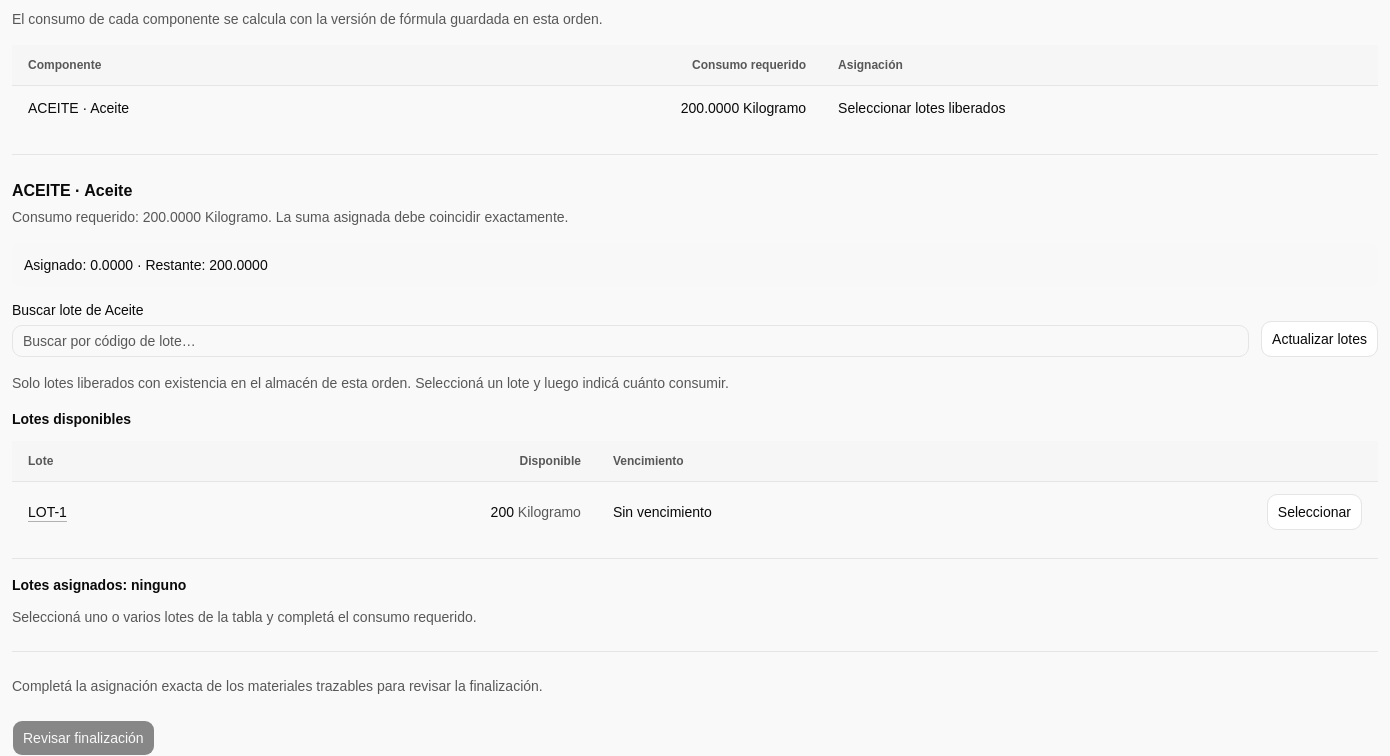
it: C-2 execution and inventory integration › shows backend stock conflicts and refreshes lot selection
(page scrolled)
Click the button "Seleccionar": (1314, 512) x1=1267 y1=494 x2=1362 y2=530
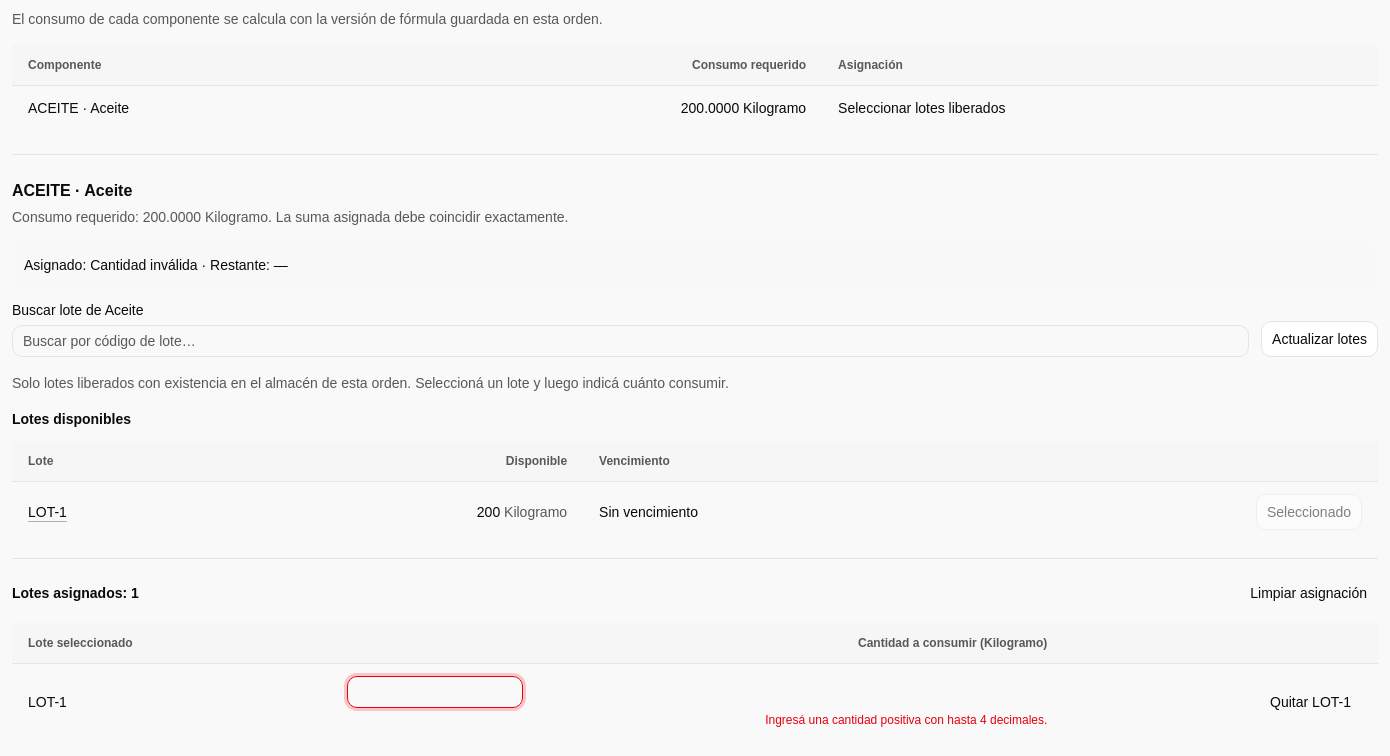
In the field named "Cantidad de LOT-1": (435, 692) x1=347 y1=676 x2=523 y2=708, type "200"
(page scrolled)
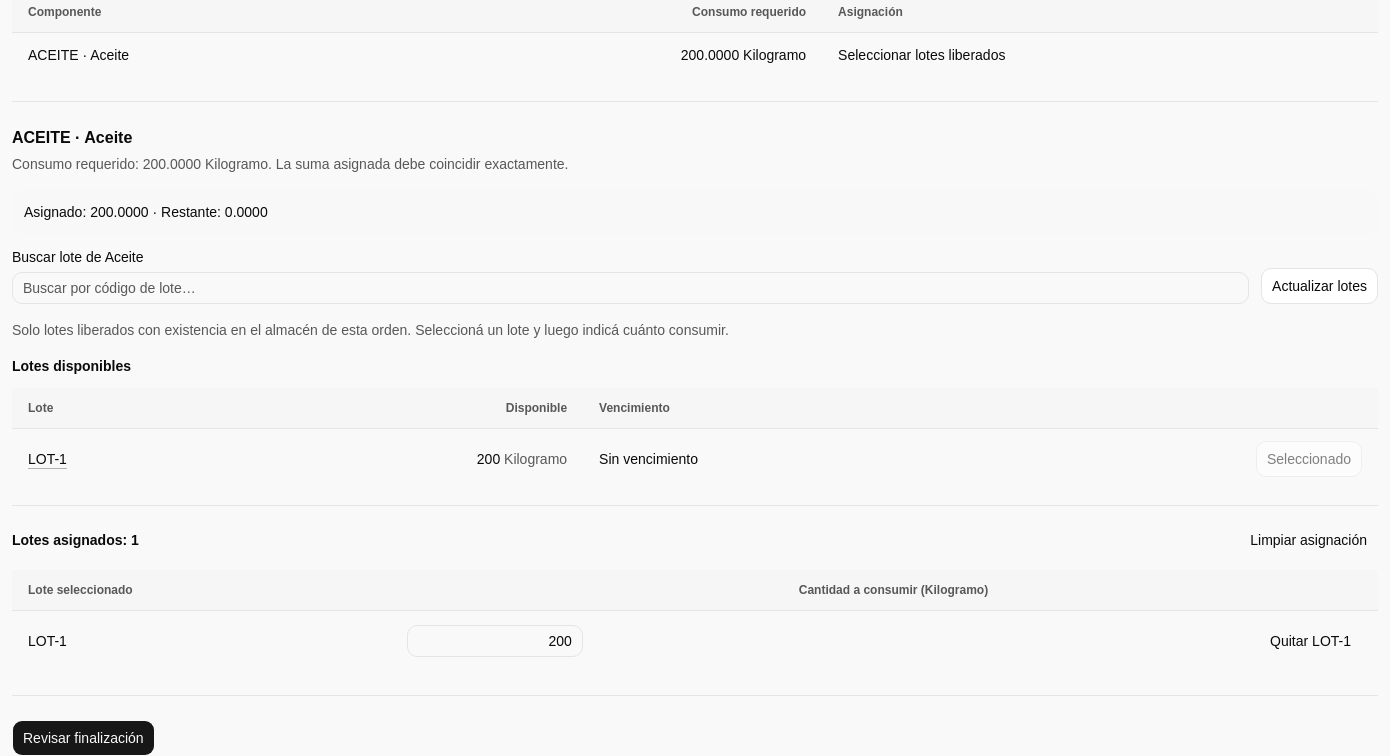
Click the button "Revisar finalización": (83, 738) x1=12 y1=720 x2=155 y2=755
(page scrolled)
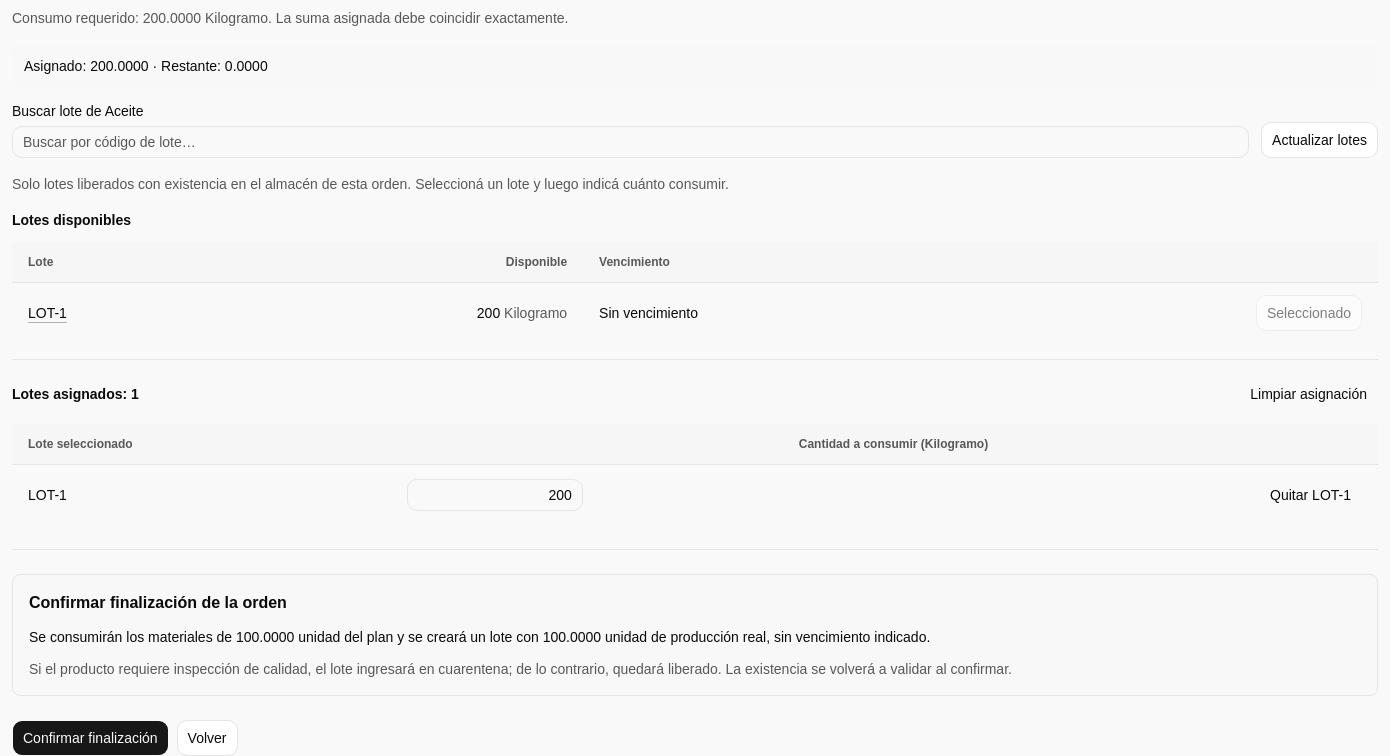
Click the button "Confirmar finalización": (90, 738) x1=12 y1=720 x2=169 y2=755
(page scrolled)
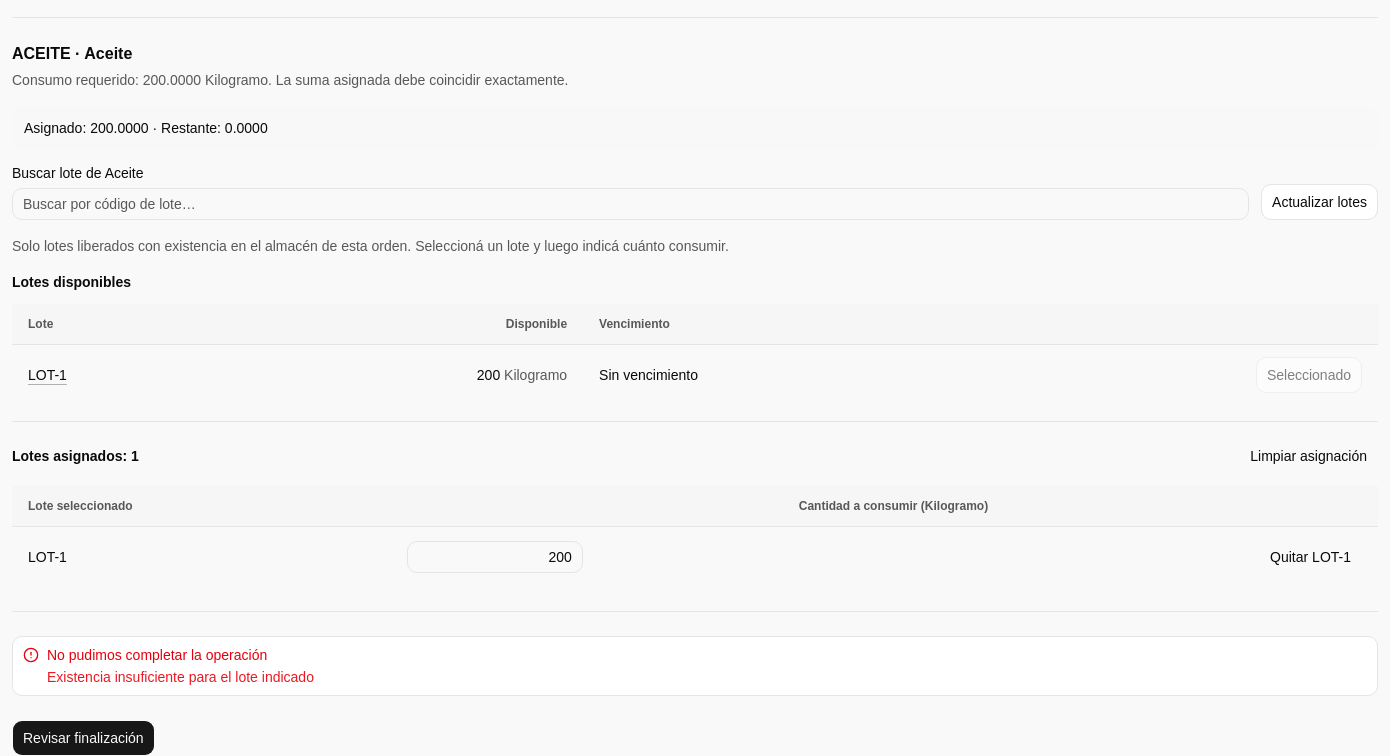
Expected: the message shows "Existencia insuficiente", x1=47 y1=669 x2=314 y2=685
